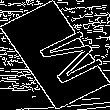M_SW: (16, 22, 94, 88)
